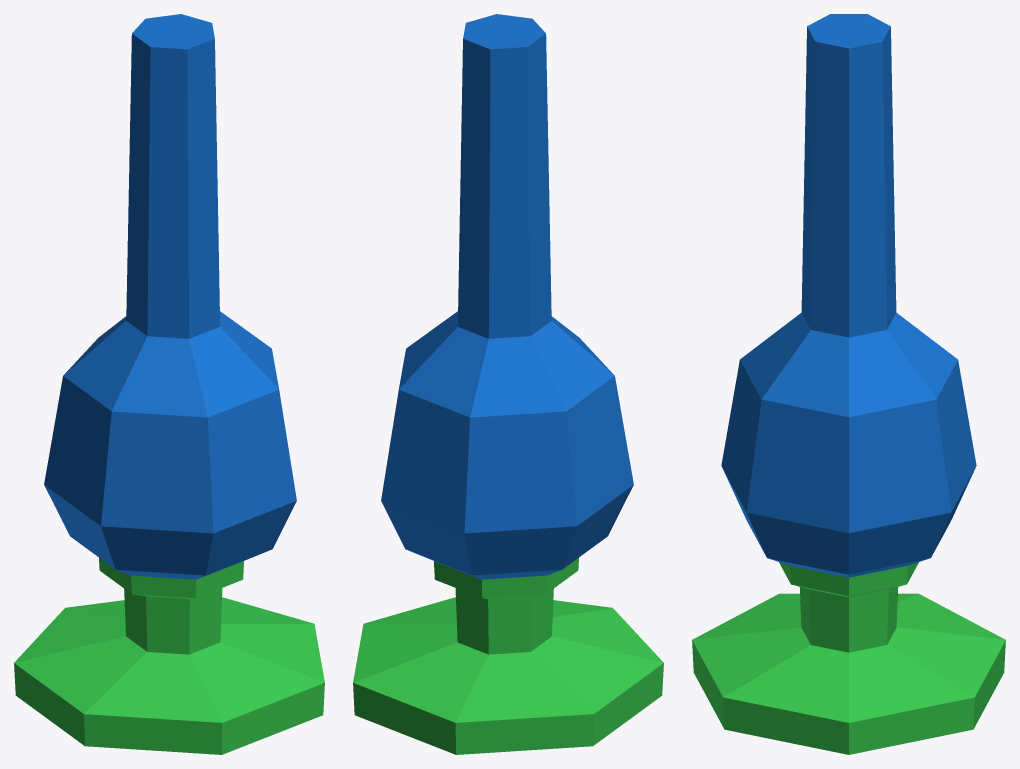
Rendered from SM_table_lamp.fbx.
3 renders of one model, left to right at view 1: azimuth 30°, elevation 25°; view 2: azimuth 150°, elevation 25°; view 3: azimuth 270°, elevation 25°, orthographic.
Visible parts, largest first — view 1: table_lamp; view 2: table_lamp; view 3: table_lamp.
Boxes of the visible parts, left/top/right/bottom form: table_lamp: left=14, top=14, right=324, bottom=754; table_lamp: left=353, top=14, right=663, bottom=754; table_lamp: left=692, top=14, right=1005, bottom=754.
Bounding box in the file's own units: 12.36 × 29.3 × 12.68.
